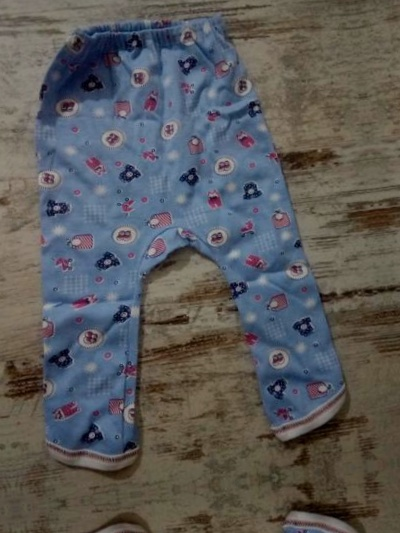Pants: (0, 0, 369, 486), (42, 488, 400, 533), (386, 0, 400, 436)
